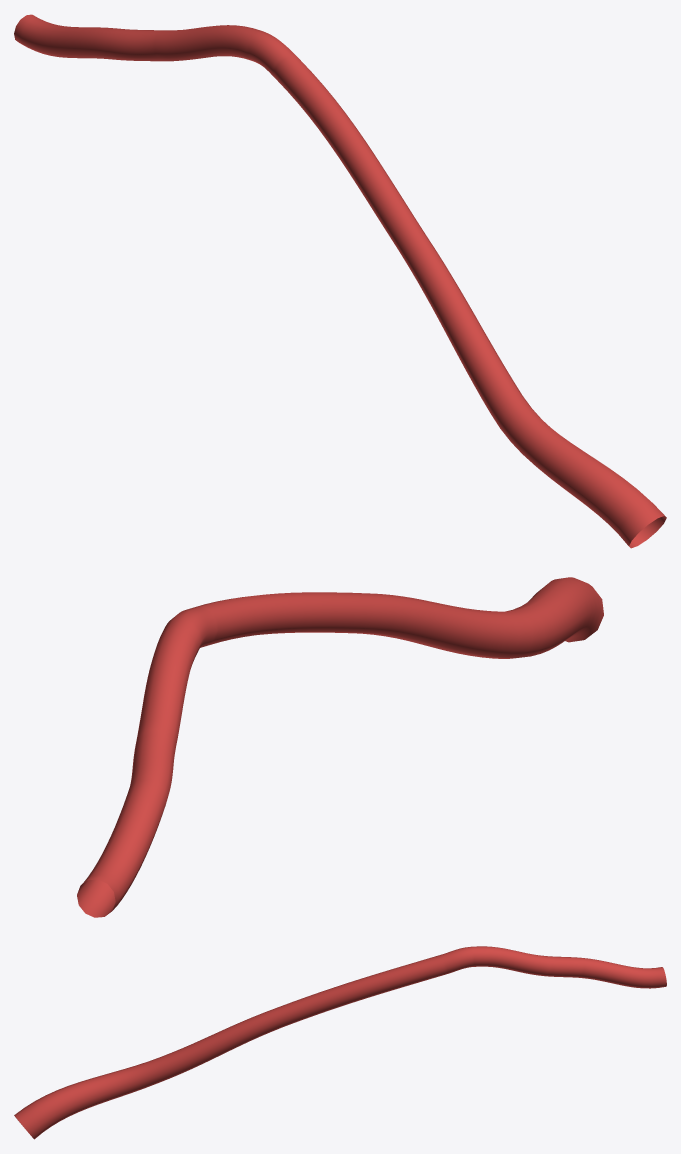
3 views of the same model, one above another, from view 1: azimuth 30°, elevation 25°; view 2: azimuth 150°, elevation 25°; view 3: azimuth 270°, elevation 25° (orthographic). The views are drawn at different scales.
Parts seen in each view (by area): view 1: 右侧腘动脉; view 2: 右侧腘动脉; view 3: 右侧腘动脉.
Part boxes in pixels (box(x1,y1,x2,y2)): 右侧腘动脉: box(14, 14, 666, 548); 右侧腘动脉: box(77, 577, 603, 917); 右侧腘动脉: box(14, 946, 666, 1139).
Bounding box in the file's own units: 0.0517 × 0.085 × 0.2829.
